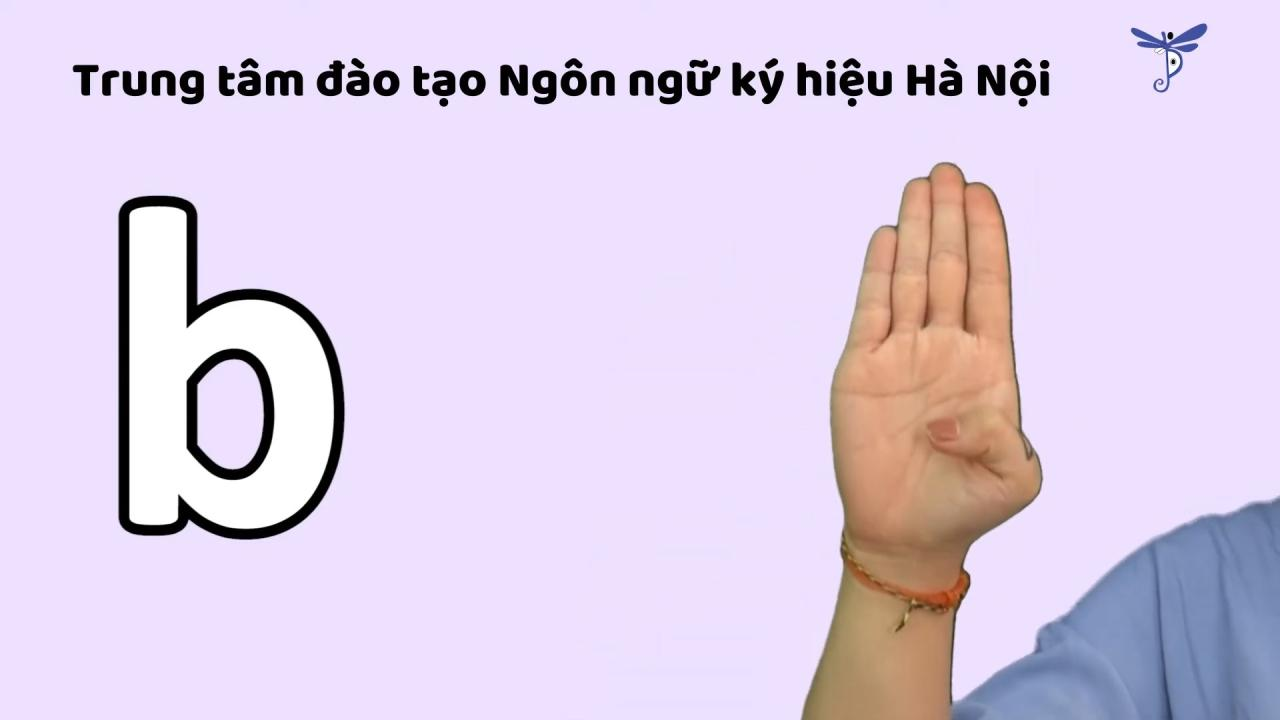B: (815, 155, 1057, 621)
